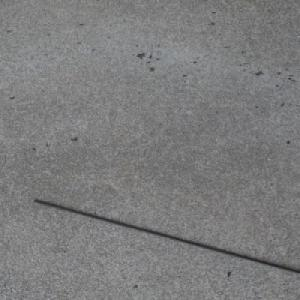LuggagePart: (33, 198, 298, 273)
